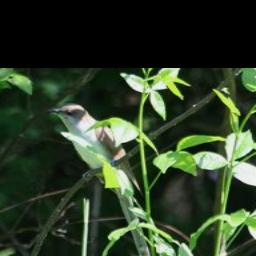Cuckoo: (45, 103, 152, 256)
